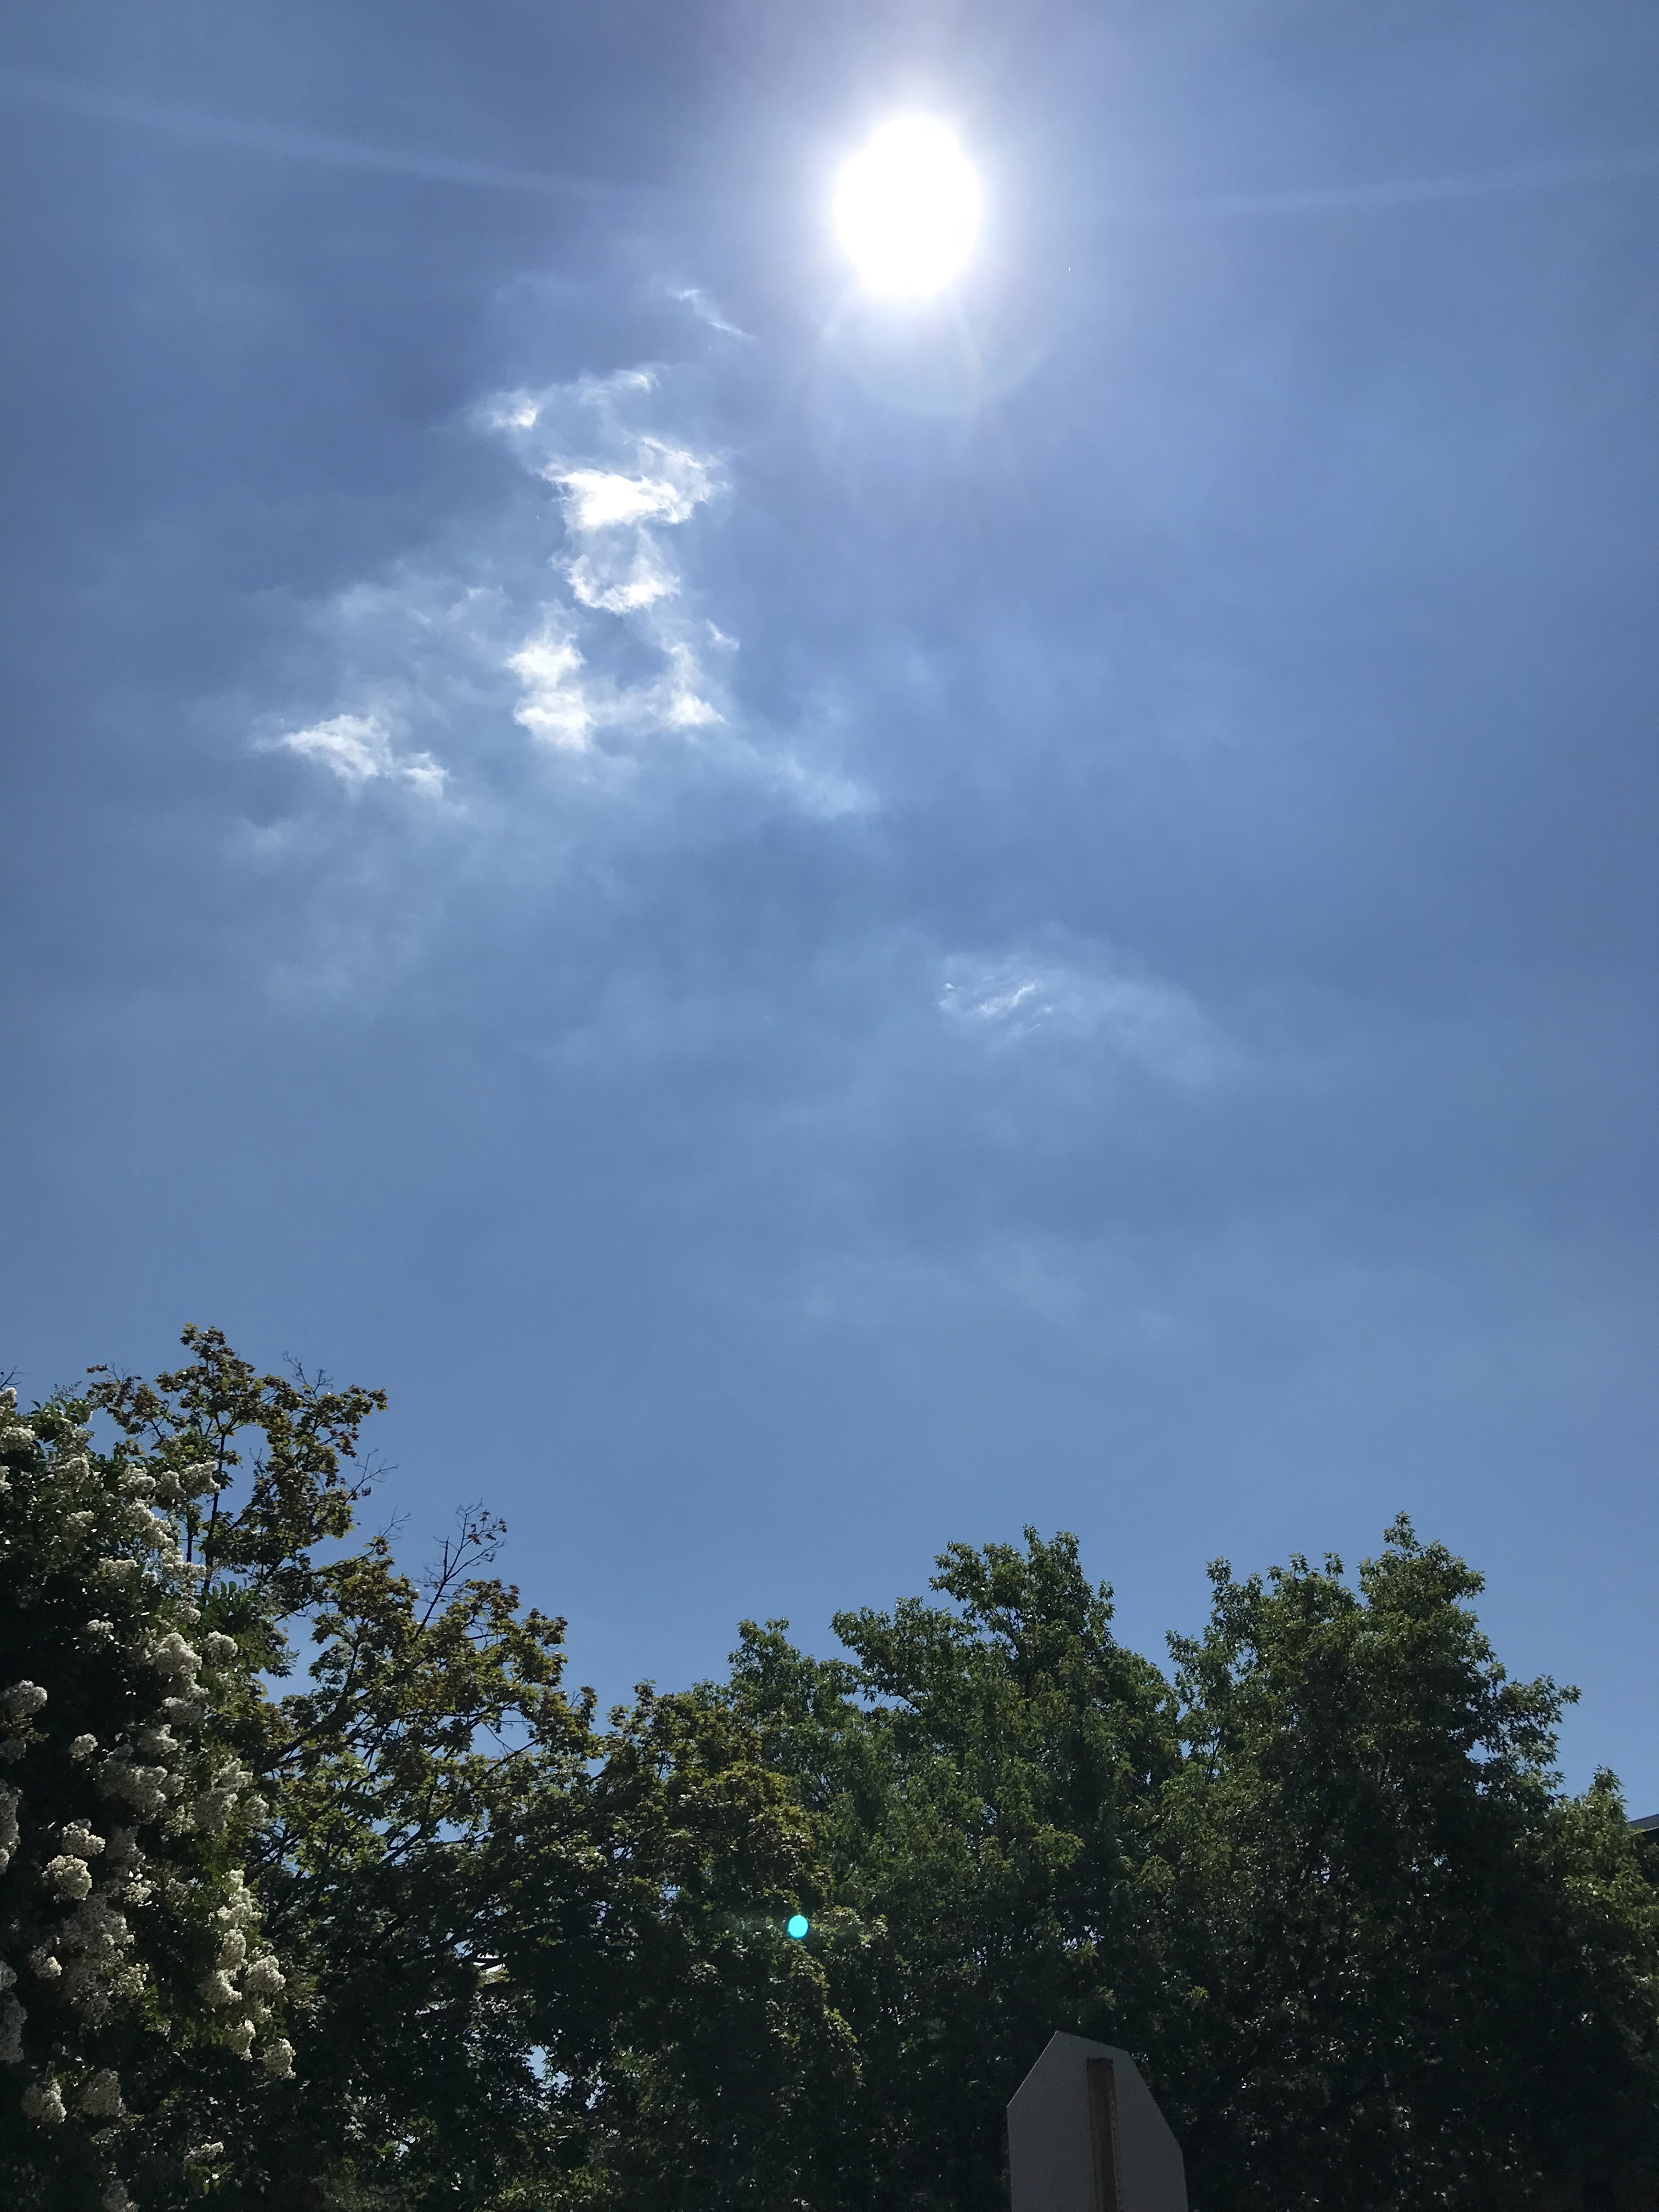flare: (784, 1912, 810, 1940)
